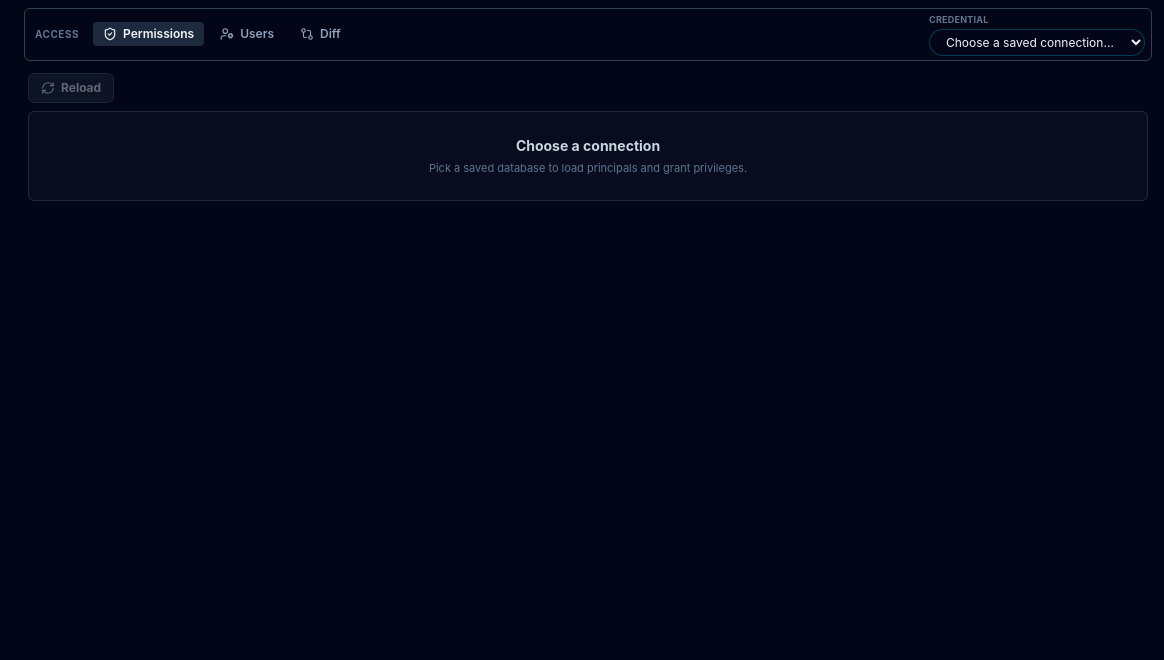
AccessView — User Management list + Builder handoff › lands on Principals and hands off Add user from User Management
Expected: the element with test id "access-permission-panel" is shown, [12,60,1163,201]
Expected: the dropdown with test id "access-connection" is shown, [929,28,1145,56]
Click the button with test id "access-tab-users".
click(247, 34)  # box [210,22,284,46]
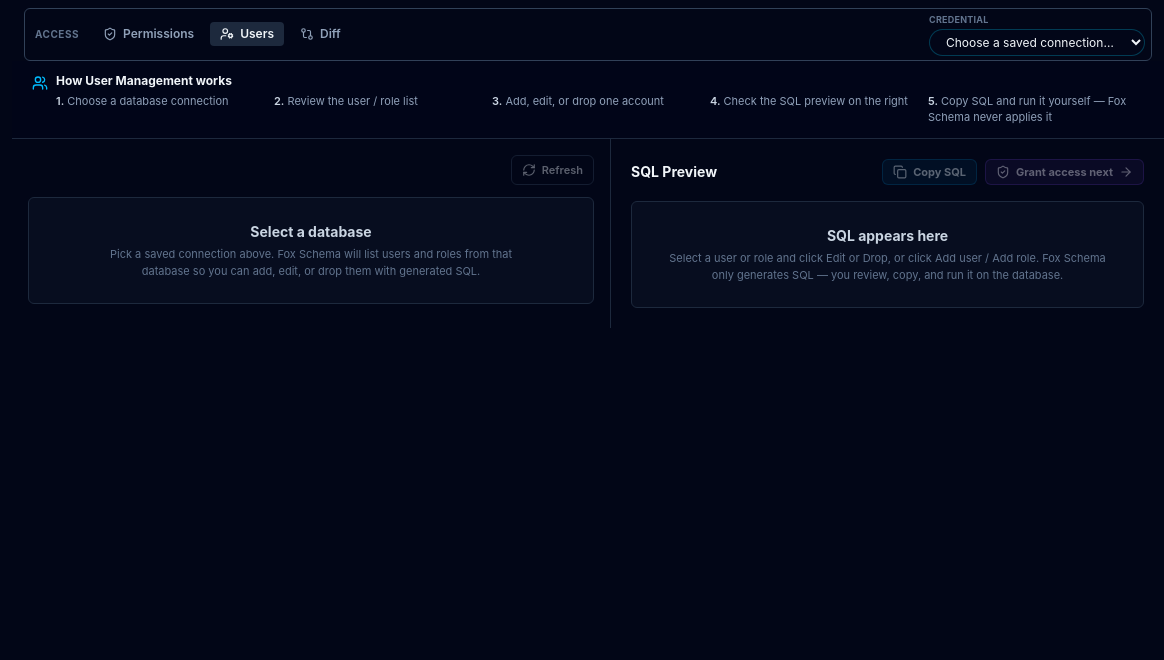
Now the element with test id "user-management" is shown, box [12,60,1163,328]
Now the element with test id "user-howto" shows "How User Management works", box [56,72,232,88]
Select "Demo PG · postgres" in the dropdown with test id "access-connection" at (1037, 42), box [929,28,1145,56]
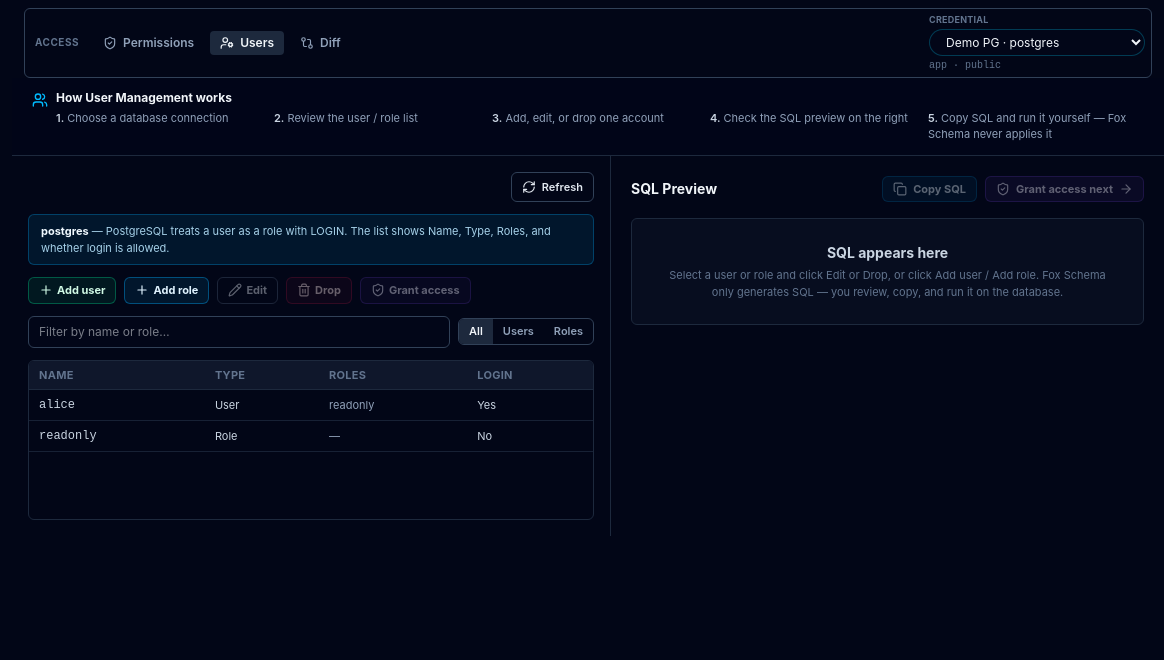
Now the row with test id "user-row-alice" is shown, box [29,390,593,420]
Now the element with test id "user-dialect-coach" shows "PostgreSQL", box [41,224,551,254]
Now the row with test id "user-row-alice" shows "readonly", box [329,398,374,412]
Click the button with test id "user-add-user".
click(72, 290)  # box [28,277,116,304]
(page scrolled)
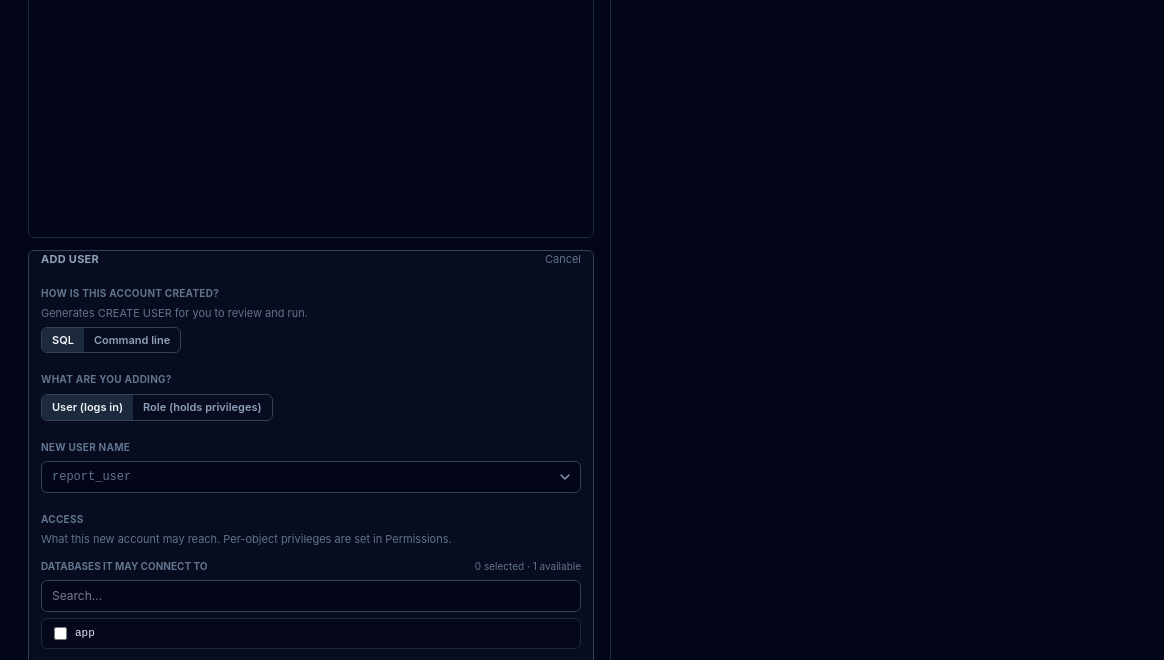
Type "analyst" into the dropdown with test id "user-name".
click(311, 477); type("analyst")  # box [41,461,581,493]
(page scrolled)
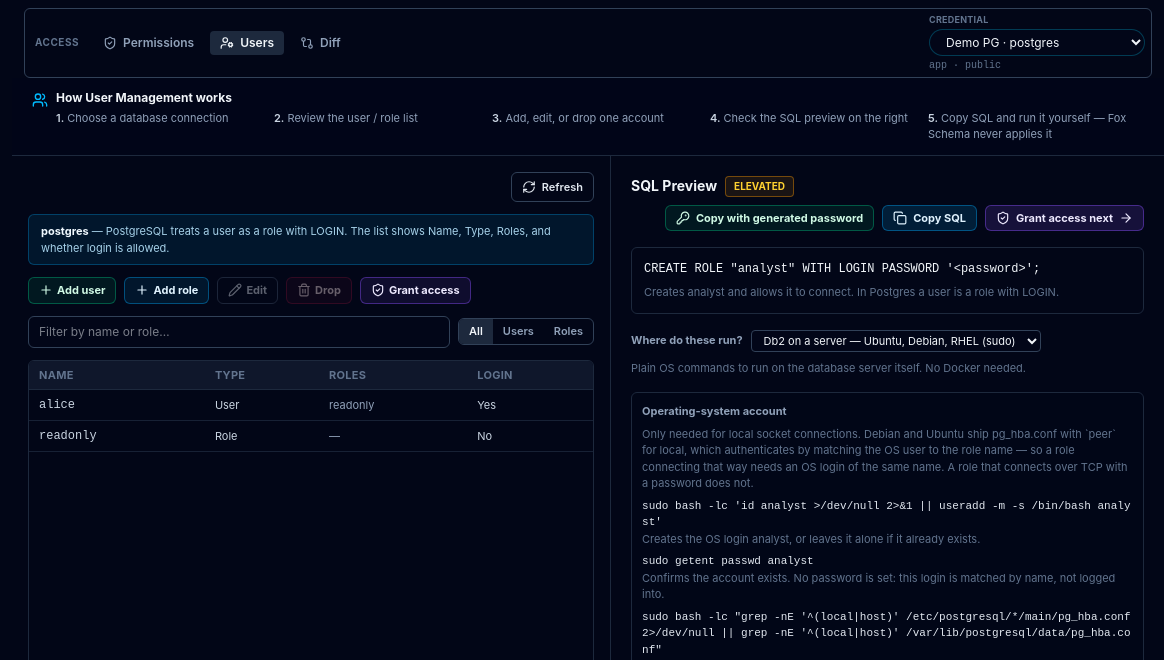
Now the element with test id "user-sql" shows "CREATE ROLE \"analyst\"", box [644,262,1040,276]
Now the button with test id "user-grant-next" is enabled
Click the button with test id "user-grant-next".
click(1064, 218)  # box [985,204,1144,231]
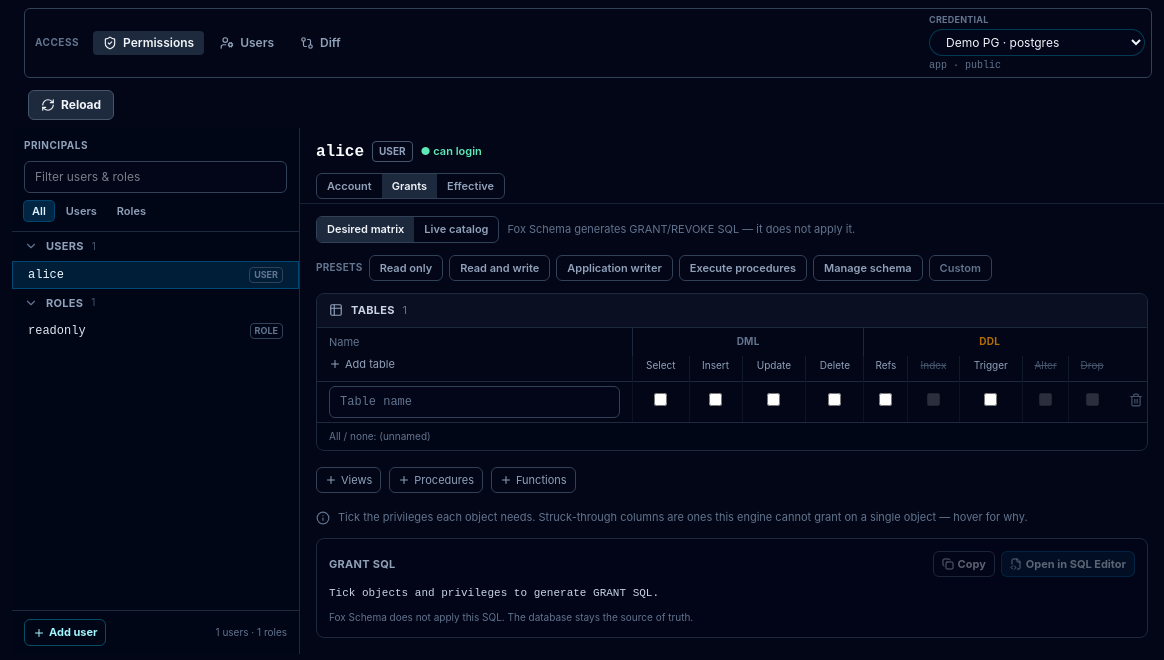
Now the element with test id "access-permission-panel" is shown
